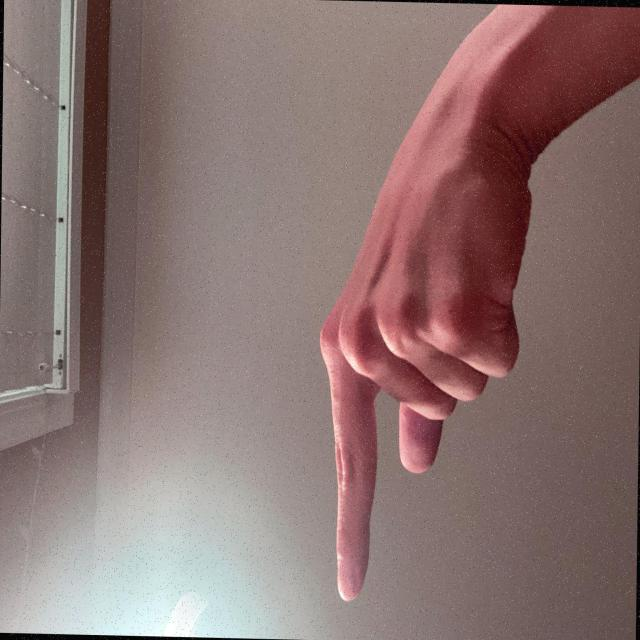G: (18, 409, 479, 640)
